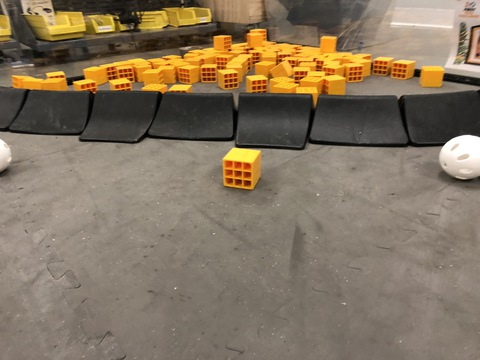ball: (430, 132, 480, 197), (1, 131, 21, 178)
block: (215, 147, 268, 196)
